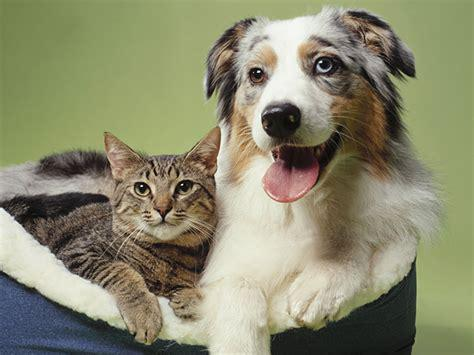cat: (2, 127, 220, 343)
dog: (1, 10, 430, 355)
